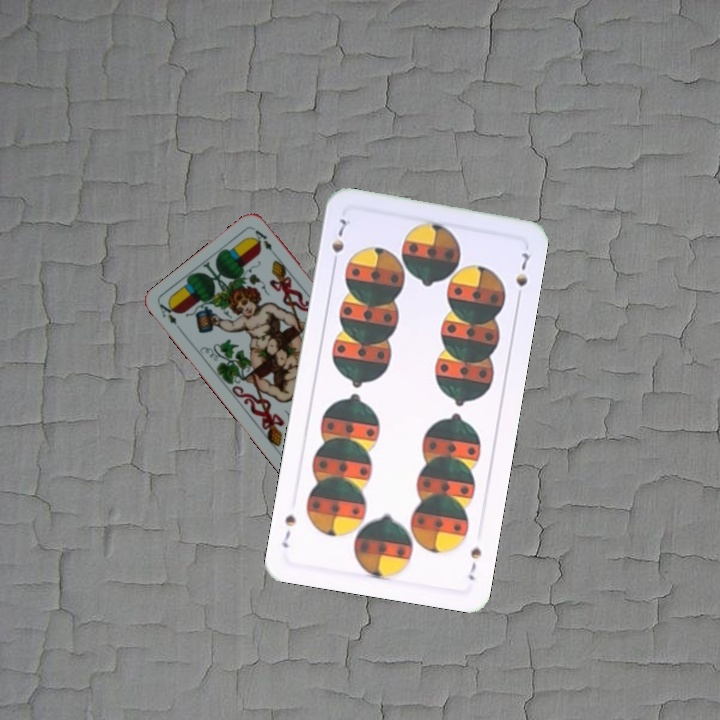EA: (155, 299, 185, 335)
S7: (327, 214, 349, 270), (464, 543, 484, 583)
